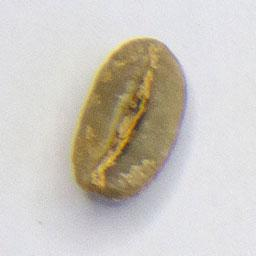longberry: (70, 33, 190, 203)
